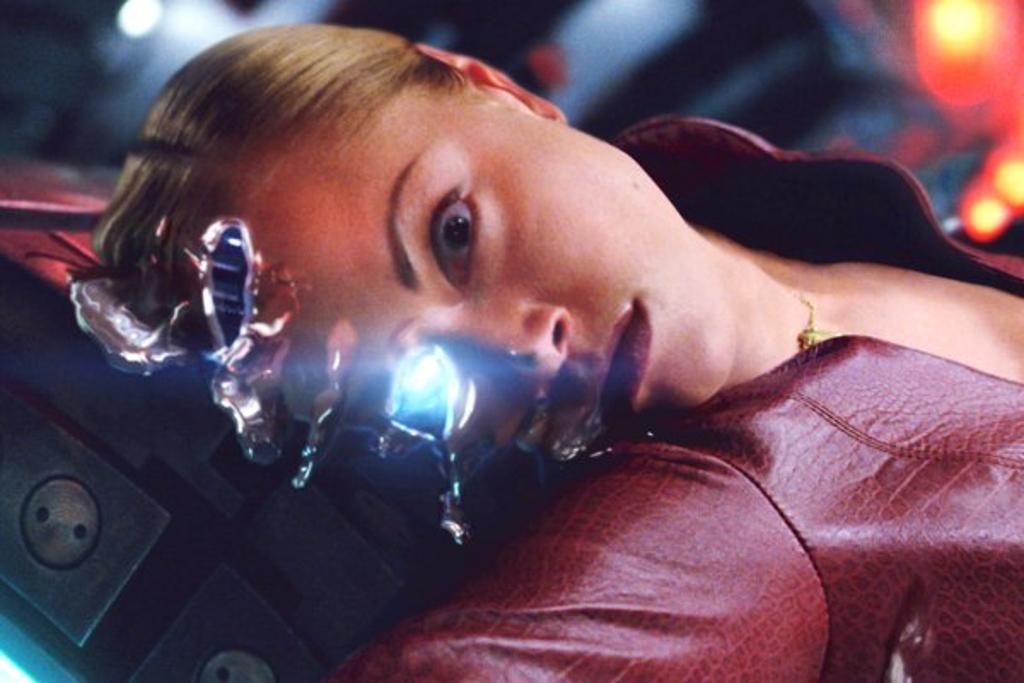face: (234, 76, 728, 490)
